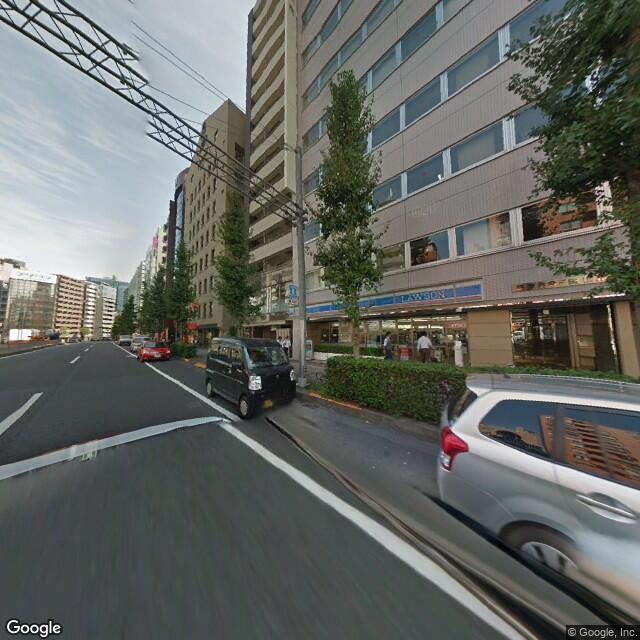lawson: (306, 277, 485, 320), (285, 280, 299, 304)
